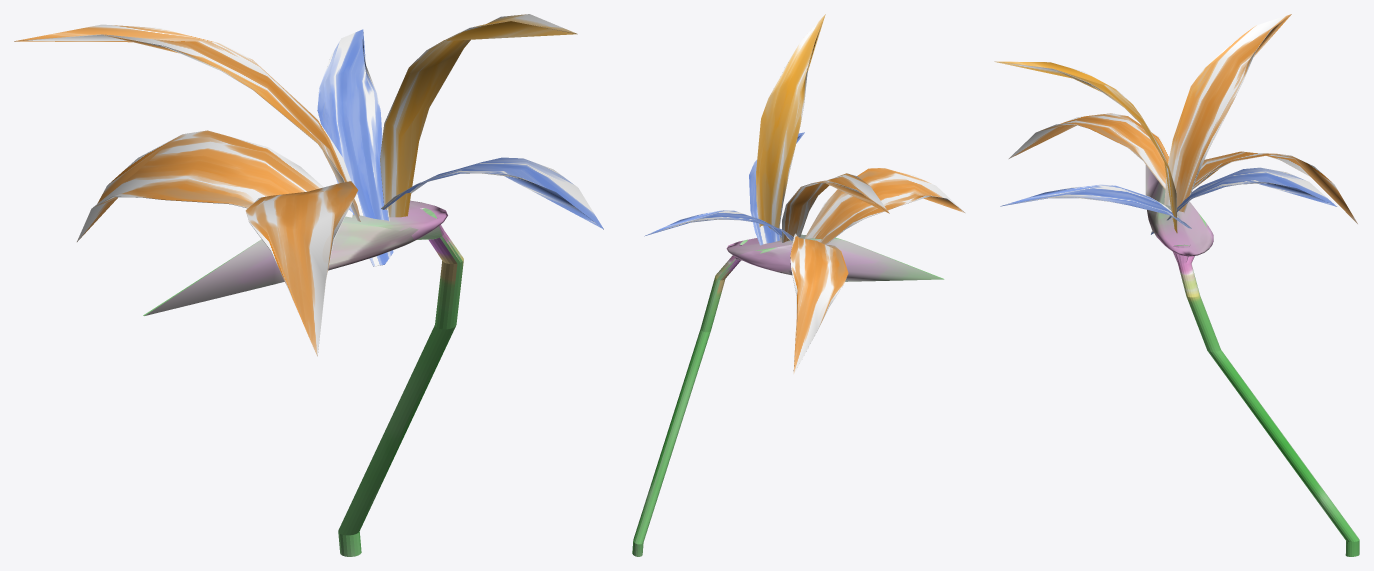
Rendered from 天堂鳥.fbx.
3 views of the same model, side by side, from view 1: azimuth 30°, elevation 25°; view 2: azimuth 150°, elevation 25°; view 3: azimuth 270°, elevation 25° (orthographic). The views are drawn at different scales.
Parts seen in each view (by area): view 1: 花頭, 葉子2, 葉子6, 葉子4, 葉子3, 葉子1, 葉子007; view 2: 花頭, 葉子4, 葉子2, 葉子6, 葉子1, 葉子3, 葉子007; view 3: 花頭, 葉子1, 葉子6, 葉子3, 葉子4, 葉子007, 葉子2.
Boxes of the visible parts, x1,y1,x2,y2 form: 花頭: [143, 200, 463, 556]; 葉子2: [77, 130, 352, 241]; 葉子6: [245, 181, 358, 356]; 葉子4: [380, 14, 577, 217]; 葉子3: [317, 29, 393, 266]; 葉子1: [14, 24, 360, 221]; 葉子007: [381, 157, 603, 229]; 花頭: [632, 234, 944, 556]; 葉子4: [756, 14, 825, 231]; 葉子2: [790, 233, 848, 374]; 葉子6: [804, 168, 964, 244]; 葉子1: [782, 173, 889, 242]; 葉子3: [644, 210, 793, 240]; 葉子007: [749, 132, 804, 245]; 花頭: [1145, 165, 1359, 556]; 葉子1: [1164, 14, 1291, 212]; 葉子6: [1009, 113, 1169, 189]; 葉子3: [1151, 167, 1336, 234]; 葉子4: [994, 61, 1177, 233]; 葉子007: [1000, 184, 1191, 228]; 葉子2: [1193, 151, 1357, 223].
Size of the model in its own units: 93.75 by 167 by 116.
Materials: 5 (5 with a texture image).
